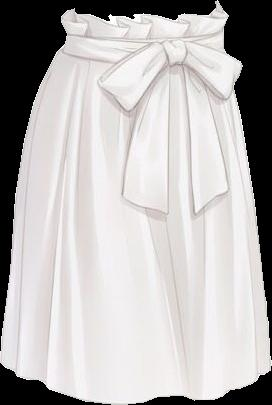Hemline: (0, 358, 271, 404)
Waistline: (61, 0, 228, 28), (65, 26, 225, 43)
